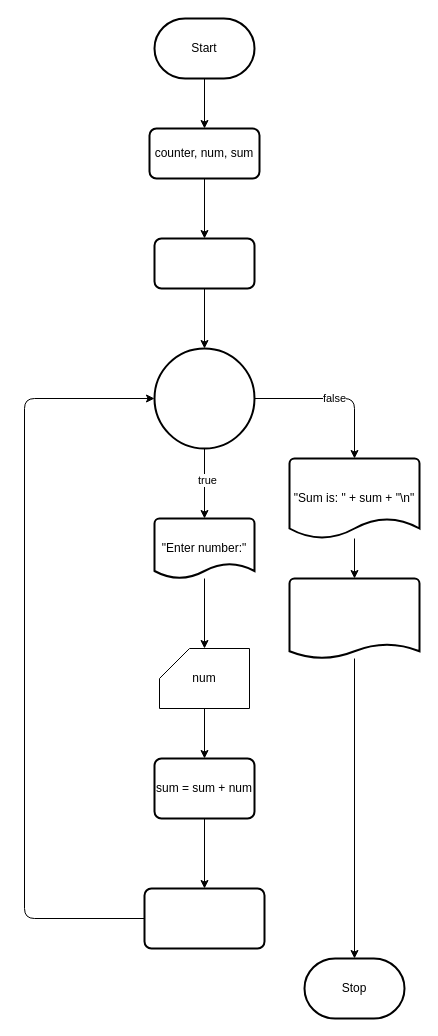
The diagram is 438 pixels wide and 1036 high, and some of its shapes have lost their labels. Each missing label, with the centre of its shape:
"Avg is: " + (sum / 100): point 354,618
counter = 1 sum = 0: point 204,263
counter = counter + 1: point 204,918
while counter <= 100: point 204,398
